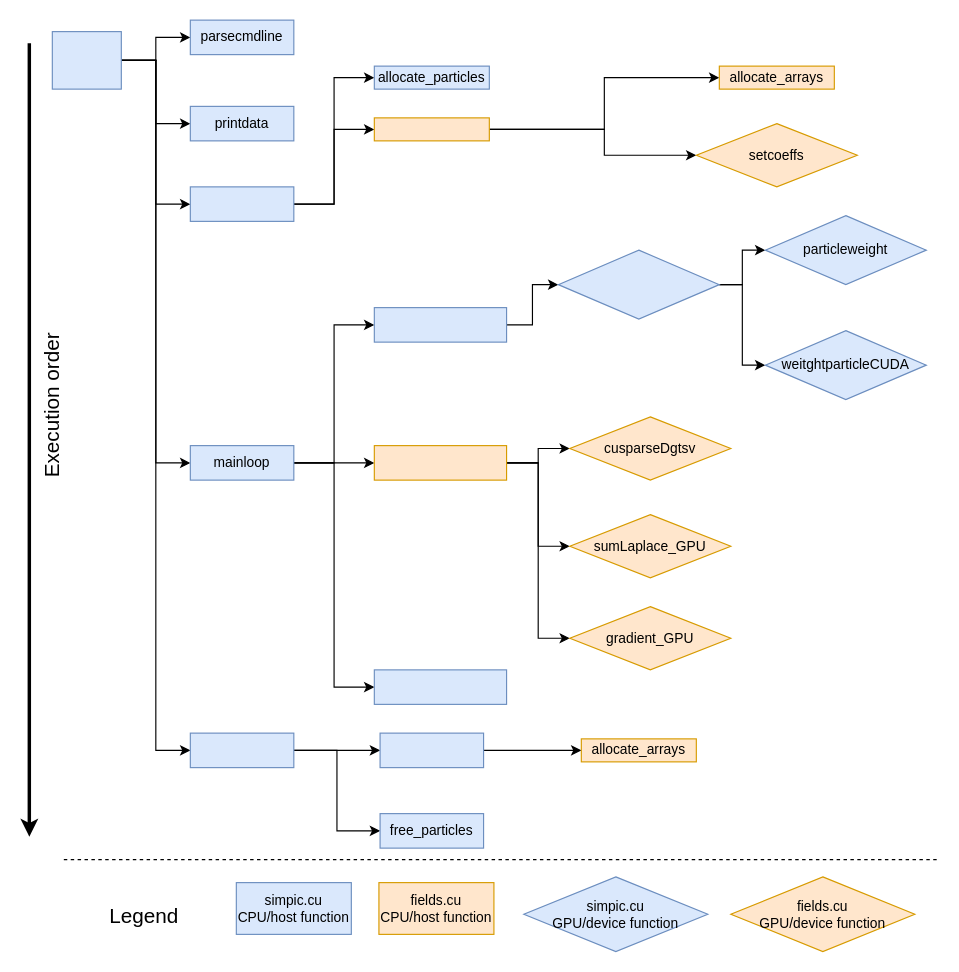
This 959x972 diagram has some shape labels left out. Here are the shapes that lost their labels. From the top down, the centre of each, then its label:
the point at 86,59: main
the point at 431,129: init_fields
the point at 241,203: init
the point at 638,284: moveparticlesCUDA
the point at 440,324: moveparticlesGPU
the point at 440,462: advancefields
the point at 440,686: print_diagnostics
the point at 241,750: Quit
the point at 431,750: free_fields
